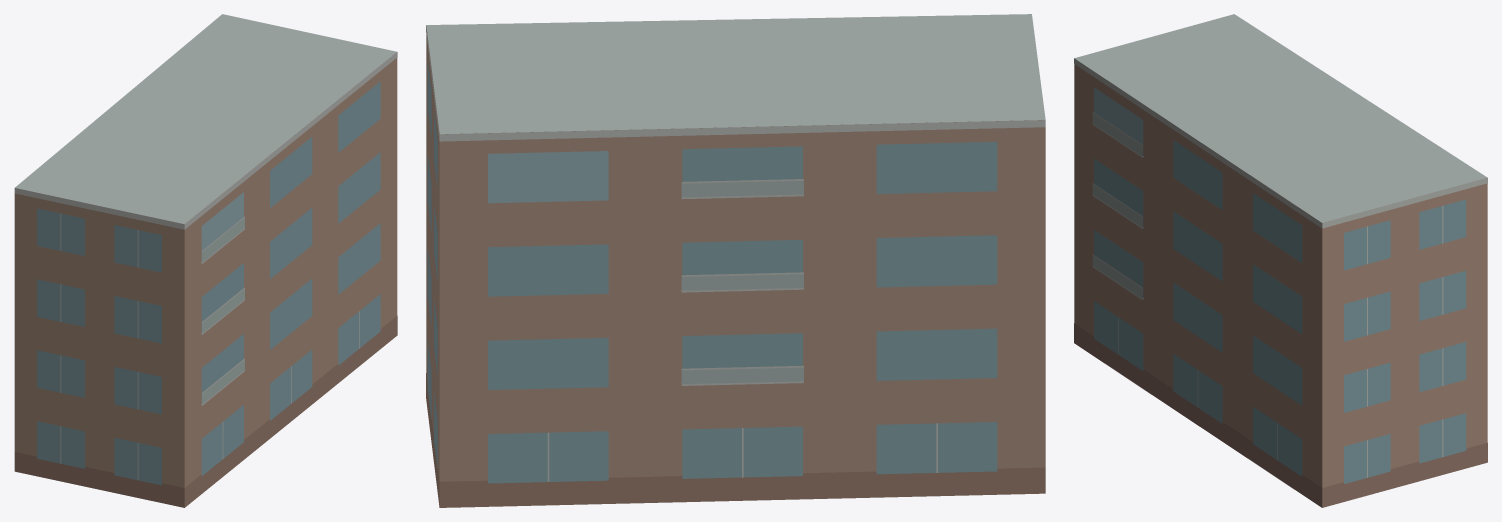
The model's file is survey-upis-32925413.glb.
3 renders of one model, left to right at view 1: azimuth 30°, elevation 25°; view 2: azimuth 150°, elevation 25°; view 3: azimuth 270°, elevation 25°, orthographic. The views are drawn at different scales.
Visible parts, largest first — view 1: survey-upis-32925413.tmp; view 2: survey-upis-32925413.tmp; view 3: survey-upis-32925413.tmp.
Part boxes in pixels (<box>): survey-upis-32925413.tmp: <box>14,14,397,507</box>; survey-upis-32925413.tmp: <box>426,14,1045,507</box>; survey-upis-32925413.tmp: <box>1074,14,1487,507</box>.
Bounding box in the file's own units: 19.68 × 12.5 × 16.46.
